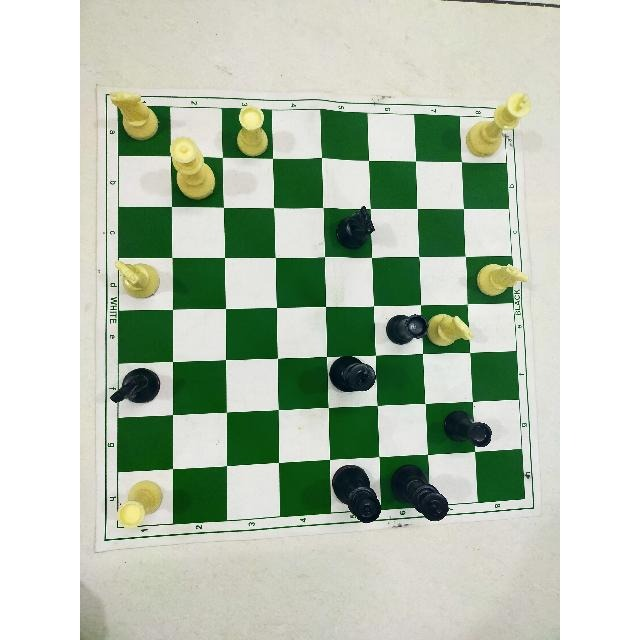black-king: (385, 459, 456, 531), (321, 347, 381, 401)
black-knight: (108, 363, 164, 416), (333, 201, 380, 256)
black-queen: (329, 460, 381, 536)
black-rook: (440, 405, 496, 455), (380, 306, 432, 353)
white-king: (462, 88, 538, 159)
white-knight: (104, 85, 164, 146), (475, 256, 527, 306), (114, 254, 164, 306), (423, 309, 476, 353)
white-queen: (168, 133, 218, 201)
white-rook: (112, 476, 168, 534), (232, 101, 274, 159)
